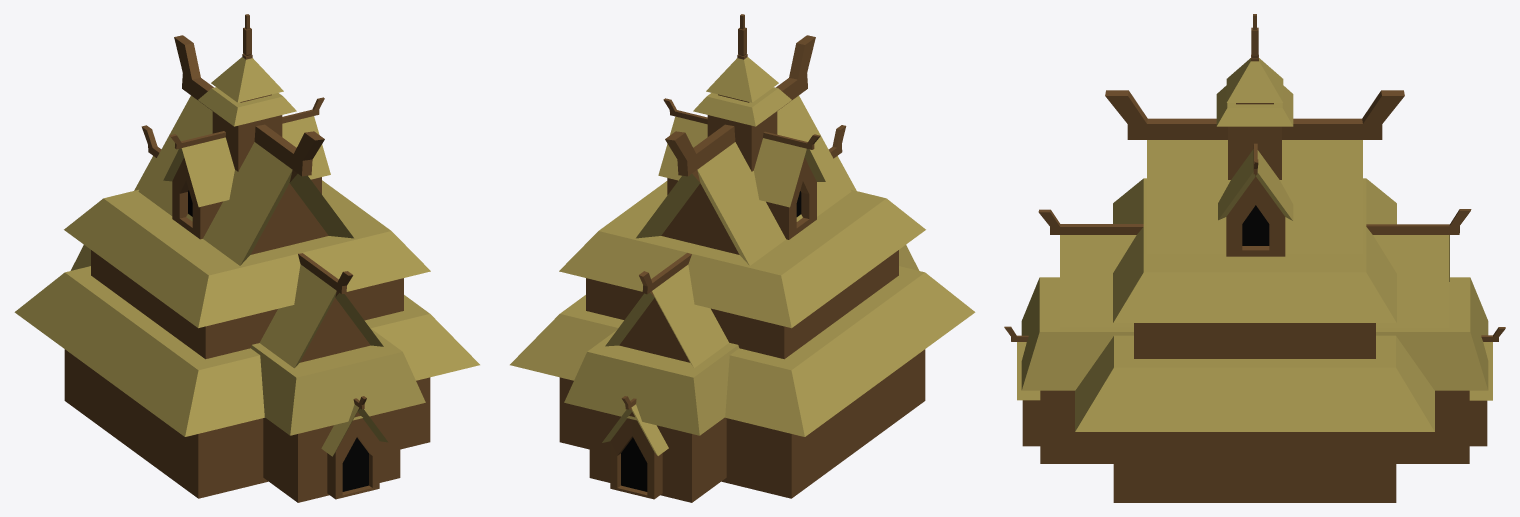
File: Hall2.glb
The picture shows the model from 3 angles, left to right: view 1: azimuth 30°, elevation 25°; view 2: azimuth 150°, elevation 25°; view 3: azimuth 270°, elevation 25°; orthographic projection. The views are drawn at different scales.
Parts seen in each view (by area): view 1: Cube.011, Cube.002, Cube.004, Cube.005, Cube.001, Cube.003, Cube.008, Cube.014, Cube.007, Cube.012; view 2: Cube.012, Cube.002, Cube.004, Cube.005, Cube.001, Cube.003, Cube.008, Cube.014, Cube.007, Cube.011; view 3: Cube.002, Cube.005, Cube.004, Cube.001, Cube.011, Cube.012, Cube.003, Cube.008, Cube.007.
Boxes of the visible parts, left/top/right/bottom form: Cube.011: left=251, top=253, right=425, bottom=502; Cube.002: left=14, top=266, right=479, bottom=436; Cube.004: left=64, top=180, right=430, bottom=328; Cube.005: left=138, top=35, right=353, bottom=265; Cube.001: left=64, top=349, right=430, bottom=498; Cube.003: left=91, top=250, right=403, bottom=359; Cube.008: left=198, top=14, right=296, bottom=171; Cube.014: left=163, top=131, right=234, bottom=239; Cube.007: left=282, top=97, right=330, bottom=194; Cube.012: left=70, top=125, right=161, bottom=270; Cube.012: left=564, top=253, right=738, bottom=502; Cube.002: left=510, top=266, right=975, bottom=436; Cube.004: left=559, top=181, right=925, bottom=328; Cube.005: left=636, top=35, right=851, bottom=265; Cube.001: left=559, top=349, right=925, bottom=498; Cube.003: left=586, top=250, right=898, bottom=359; Cube.008: left=693, top=14, right=791, bottom=171; Cube.014: left=753, top=131, right=825, bottom=239; Cube.007: left=658, top=98, right=707, bottom=194; Cube.011: left=828, top=125, right=919, bottom=270; Cube.002: left=1075, top=335, right=1434, bottom=431; Cube.005: left=1105, top=90, right=1404, bottom=253; Cube.004: left=1113, top=178, right=1396, bottom=322; Cube.001: left=1113, top=432, right=1396, bottom=502; Cube.011: left=1004, top=209, right=1143, bottom=463; Cube.012: left=1366, top=209, right=1505, bottom=463; Cube.003: left=1134, top=323, right=1375, bottom=358; Cube.008: left=1216, top=14, right=1293, bottom=179; Cube.007: left=1218, top=143, right=1293, bottom=256.
Bounding box in the file's own units: 1.29 × 1.7 × 1.8.
